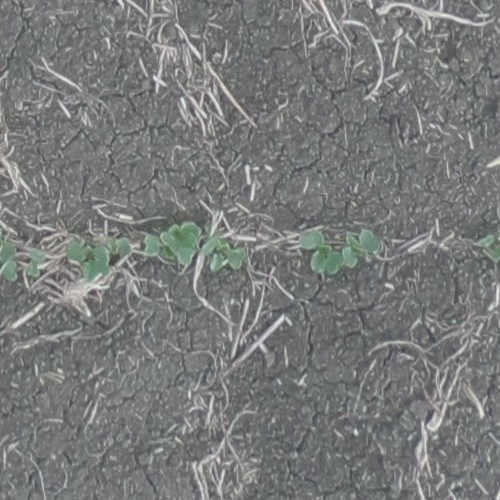clumped: (301, 227, 379, 275), (63, 237, 133, 280), (138, 222, 196, 264)
isolated: (0, 239, 38, 281), (204, 236, 243, 275), (480, 234, 499, 261)
